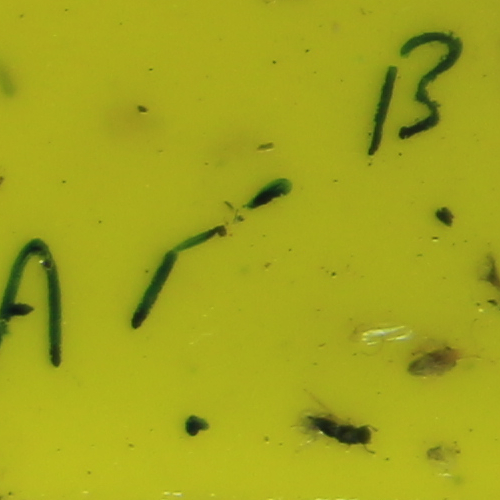psylla: (402, 345, 462, 381)
wasp: (306, 412, 373, 453)
